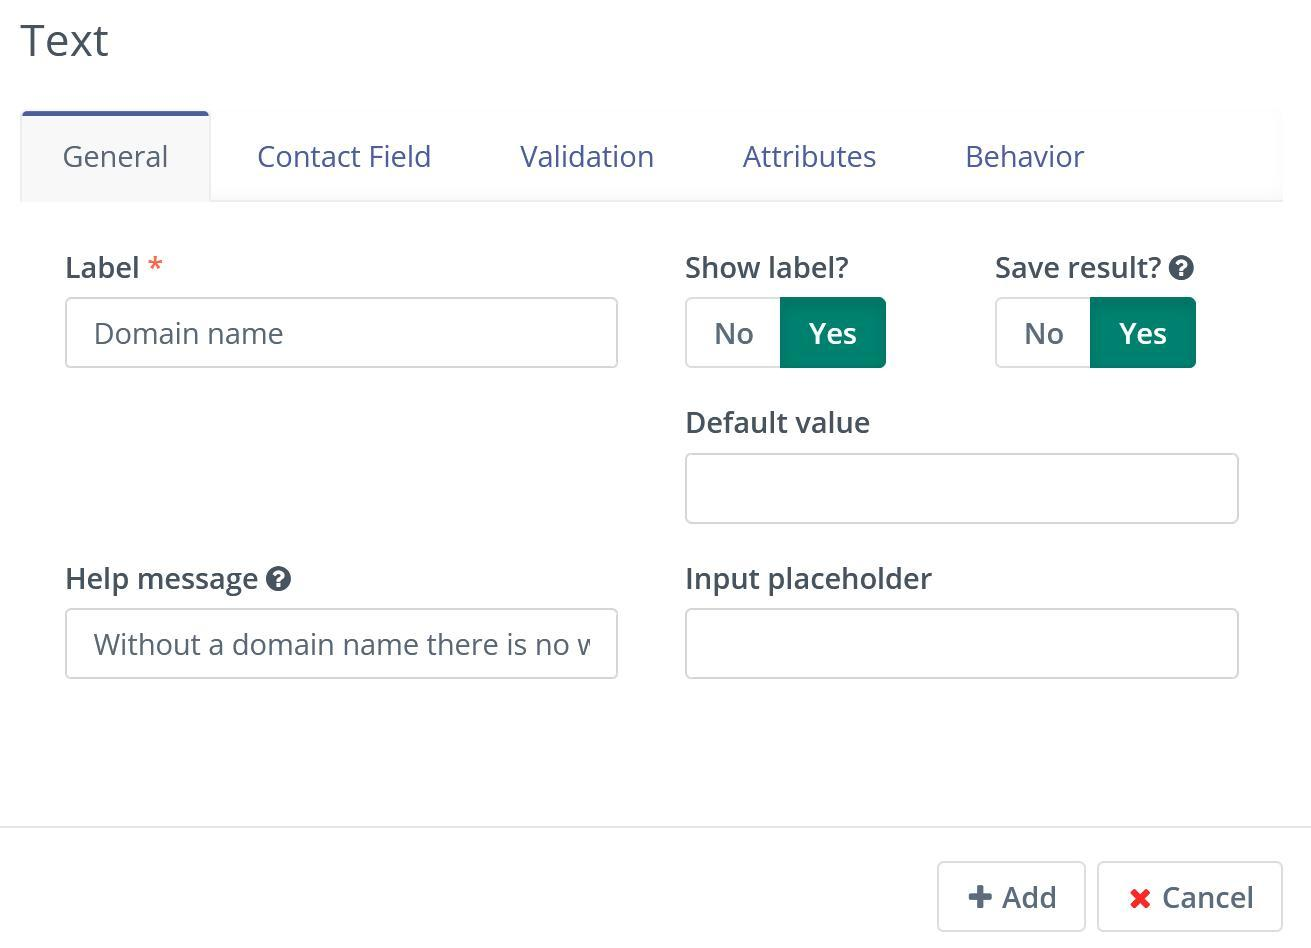button: (22, 112, 212, 202), (1098, 862, 1282, 934), (940, 863, 1087, 932), (1091, 296, 1198, 370), (781, 297, 887, 369)
input: (66, 297, 619, 369), (685, 455, 1239, 525), (686, 609, 1238, 679), (66, 610, 618, 679)
label: (676, 560, 937, 597), (55, 557, 296, 595), (683, 406, 875, 446), (251, 137, 437, 177), (991, 253, 1202, 282), (675, 253, 859, 282), (518, 140, 660, 176), (740, 142, 882, 175), (965, 141, 1090, 177), (56, 247, 171, 282)
